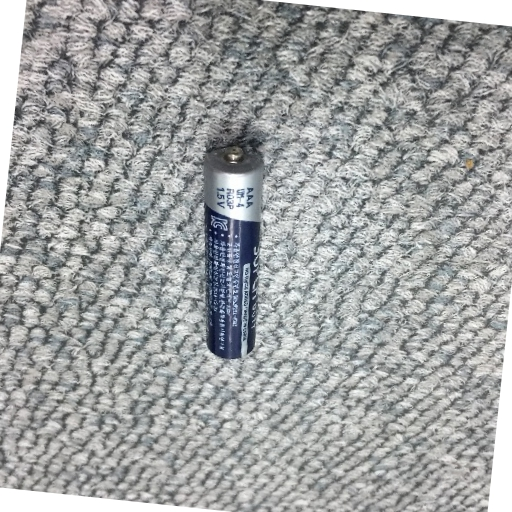Battery_0: (200, 132, 267, 360)
